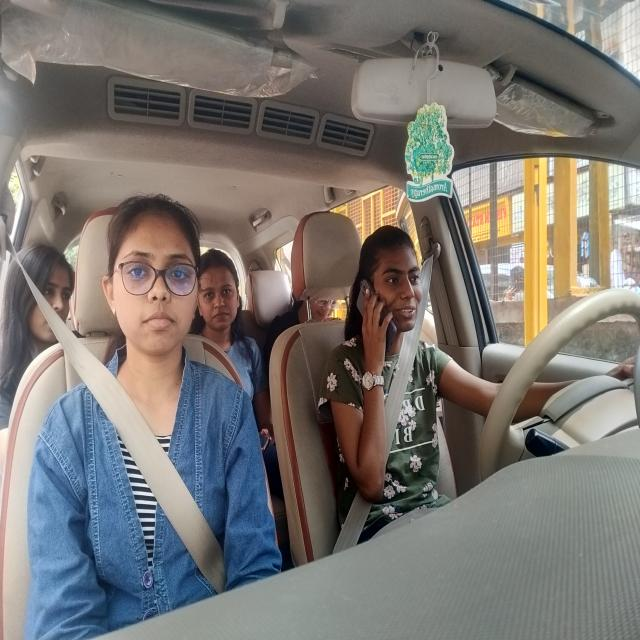mobile: (347, 278, 403, 351)
person: (108, 196, 202, 358), (356, 225, 433, 337), (5, 239, 76, 344), (202, 246, 245, 332), (294, 299, 343, 328)
